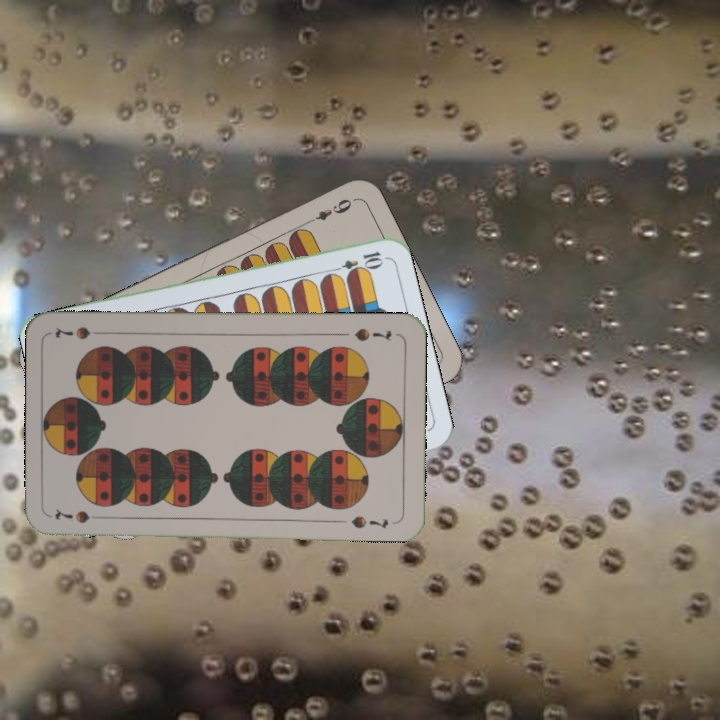E10: (327, 247, 386, 277)
E9: (301, 194, 355, 227)
S7: (50, 505, 109, 526), (351, 324, 395, 344)
